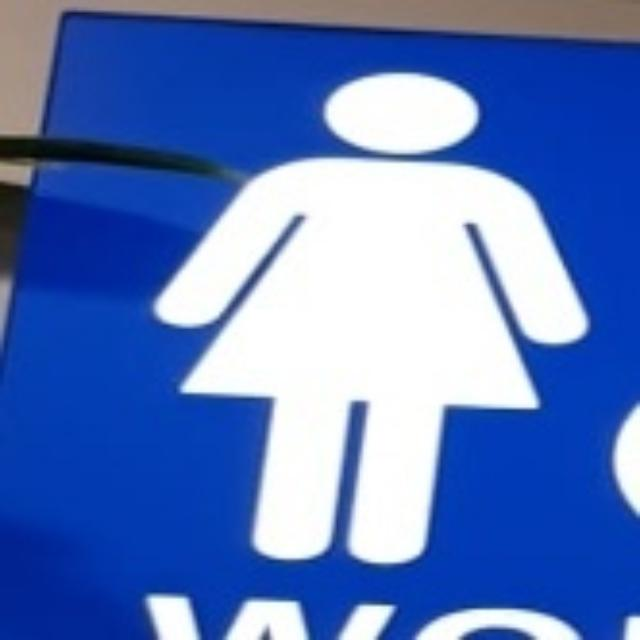wc nu: (154, 73, 586, 563)
